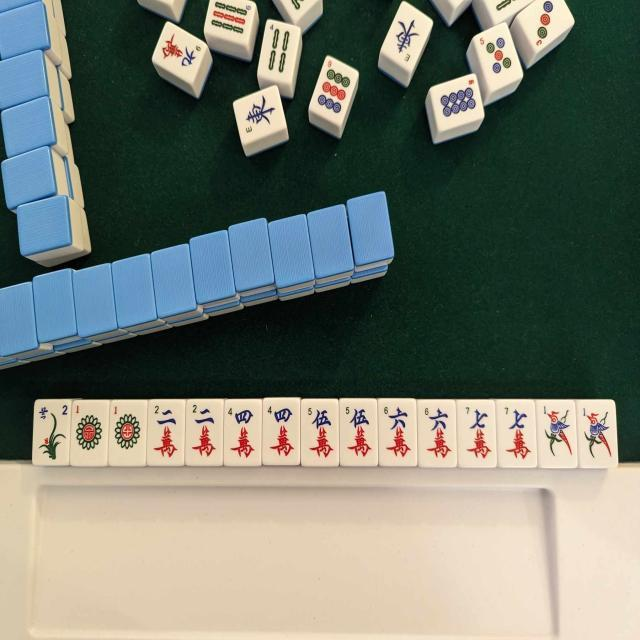bf2: (34, 401, 70, 461)
sb1: (540, 402, 575, 456), (581, 402, 615, 456)
sc2: (187, 401, 220, 462), (150, 402, 183, 462)
sc4: (226, 400, 260, 463), (264, 401, 298, 464)
sc5: (342, 402, 375, 465), (304, 402, 337, 465)
sc6: (422, 402, 455, 466), (380, 402, 413, 466)
sc7: (462, 402, 494, 462), (501, 402, 534, 460)
sd1: (74, 400, 106, 454), (110, 403, 142, 455)
